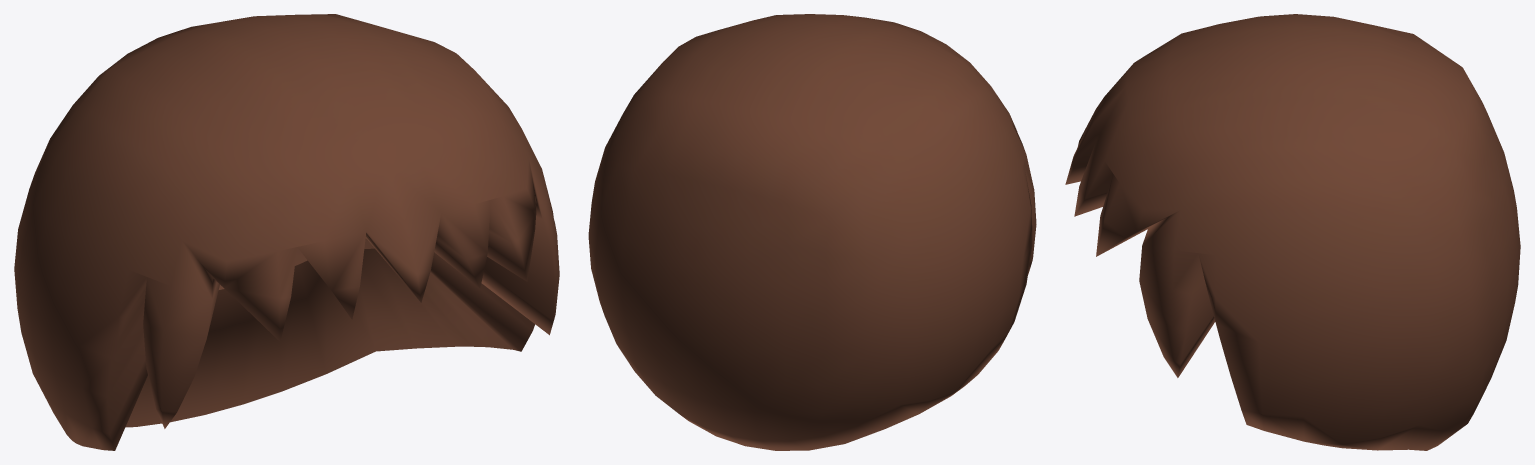
Rendered from mii_hair.fbx.
3 views of the same model, side by side, from view 1: azimuth 30°, elevation 25°; view 2: azimuth 150°, elevation 25°; view 3: azimuth 270°, elevation 25° (orthographic). The views are drawn at different scales.
Parts seen in each view (by area): view 1: Mii_Hair; view 2: Mii_Hair; view 3: Mii_Hair.
Part boxes in pixels (x1=…): Mii_Hair: x1=14, y1=14, x2=559, y2=450; Mii_Hair: x1=588, y1=14, x2=1036, y2=450; Mii_Hair: x1=1065, y1=14, x2=1520, y2=450.
Size of the model in its own units: 63.81 by 56.09 by 60.78.
